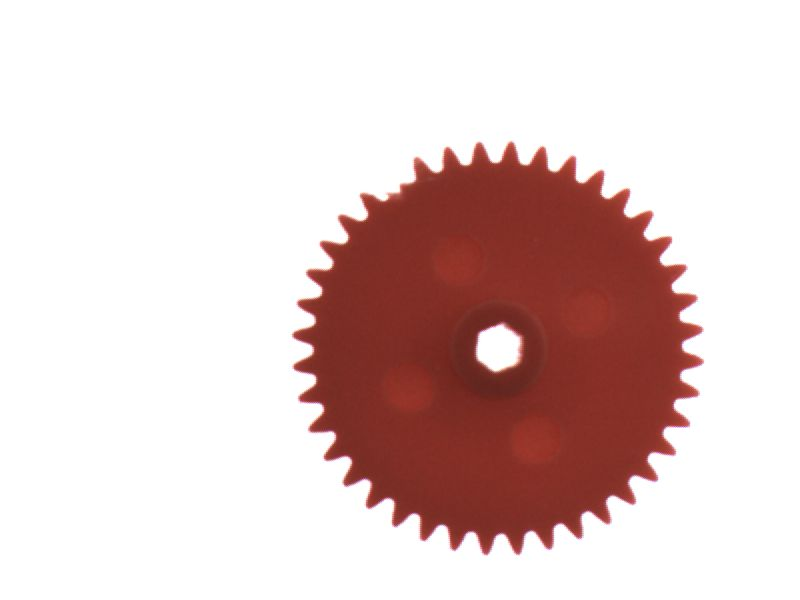defect_lack: (370, 161, 424, 210)
